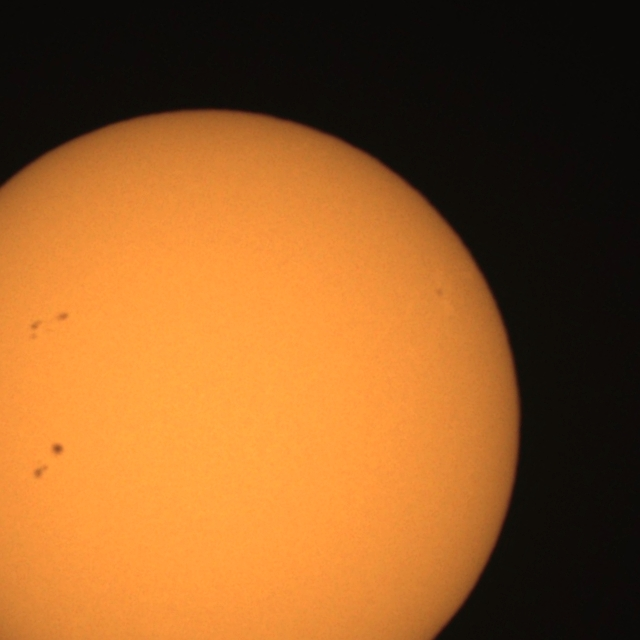sunspot: (28, 310, 70, 340), (27, 318, 47, 342), (31, 462, 50, 481), (49, 441, 66, 458), (55, 310, 70, 323)
